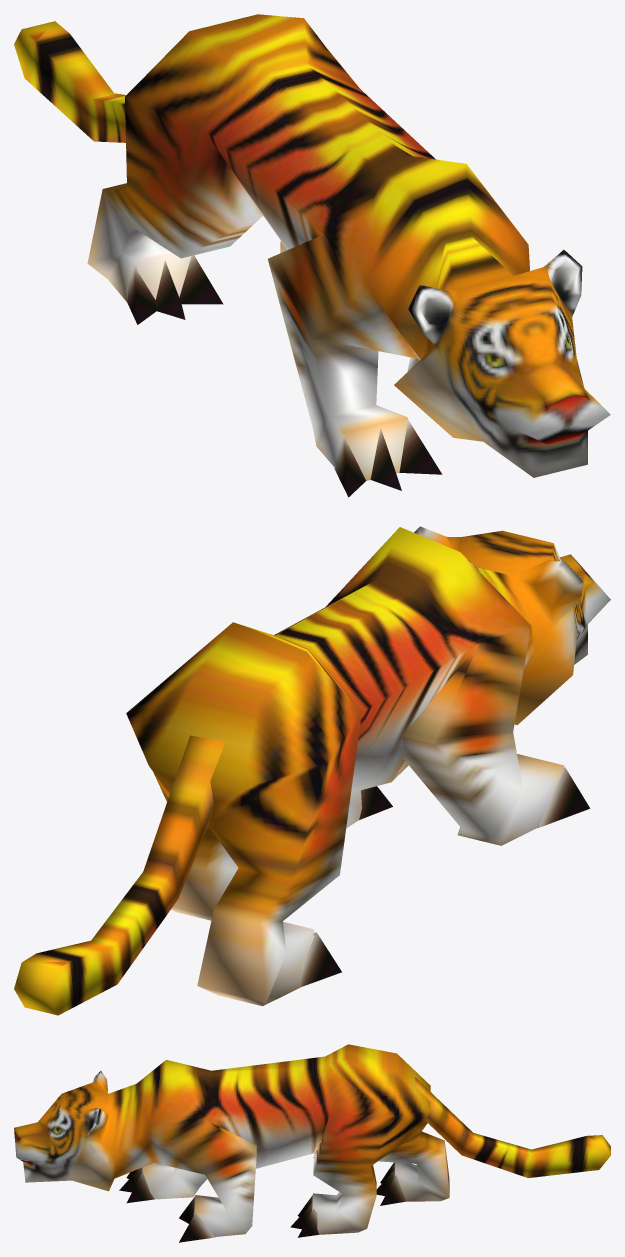
The model's file is Personage_Tiger2.FBX.
3 renders of one model, top to bottom at view 1: azimuth 30°, elevation 25°; view 2: azimuth 150°, elevation 25°; view 3: azimuth 270°, elevation 25°, orthographic. The views are drawn at different scales.
Parts seen in each view (by area): view 1: tiger; view 2: tiger; view 3: tiger.
Boxes of the visible parts, x1=… form: tiger: x1=14, y1=14, x2=610, y2=497; tiger: x1=14, y1=526, x2=610, y2=1015; tiger: x1=14, y1=1044, x2=610, y2=1242.
Bounding box in the file's own units: 28.46 × 33.36 × 111.
